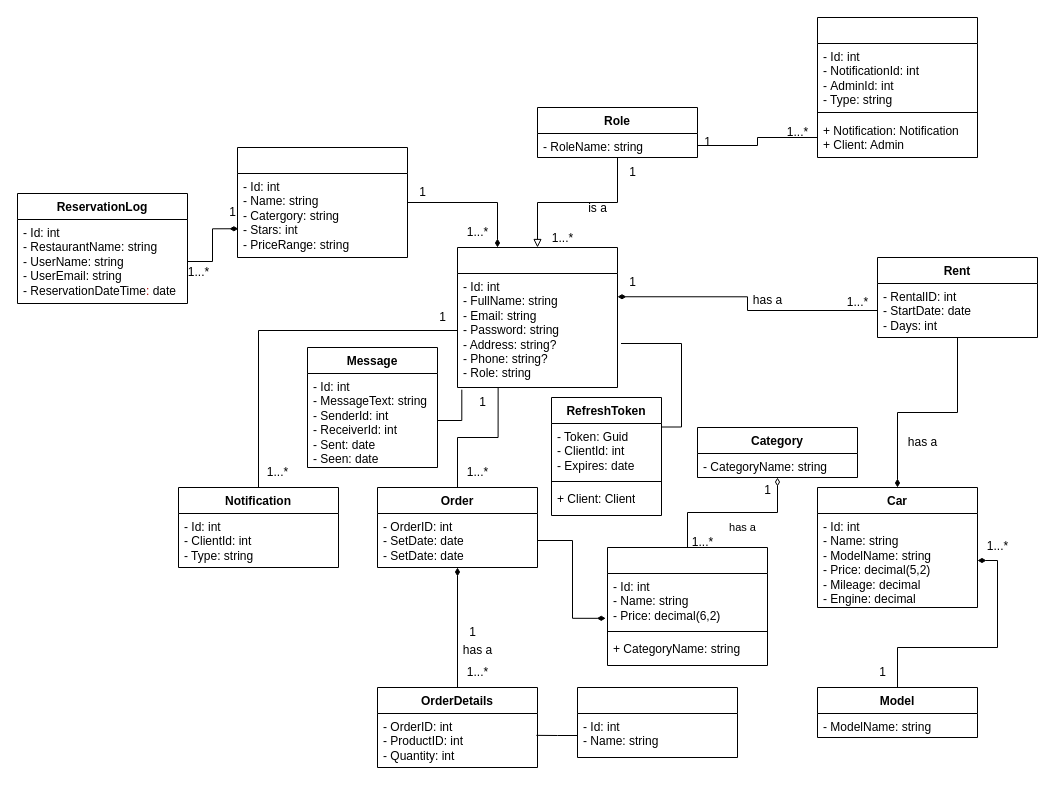
This 1055x788 diagram has some shape labels left out. Each missing label, with the box of its shape:
Client: (456, 246, 618, 388)
NotificationAdmins: (816, 16, 978, 158)
Product: (606, 546, 768, 666)
Restaurant: (236, 146, 408, 258)
ShippingMethod: (576, 686, 738, 758)
